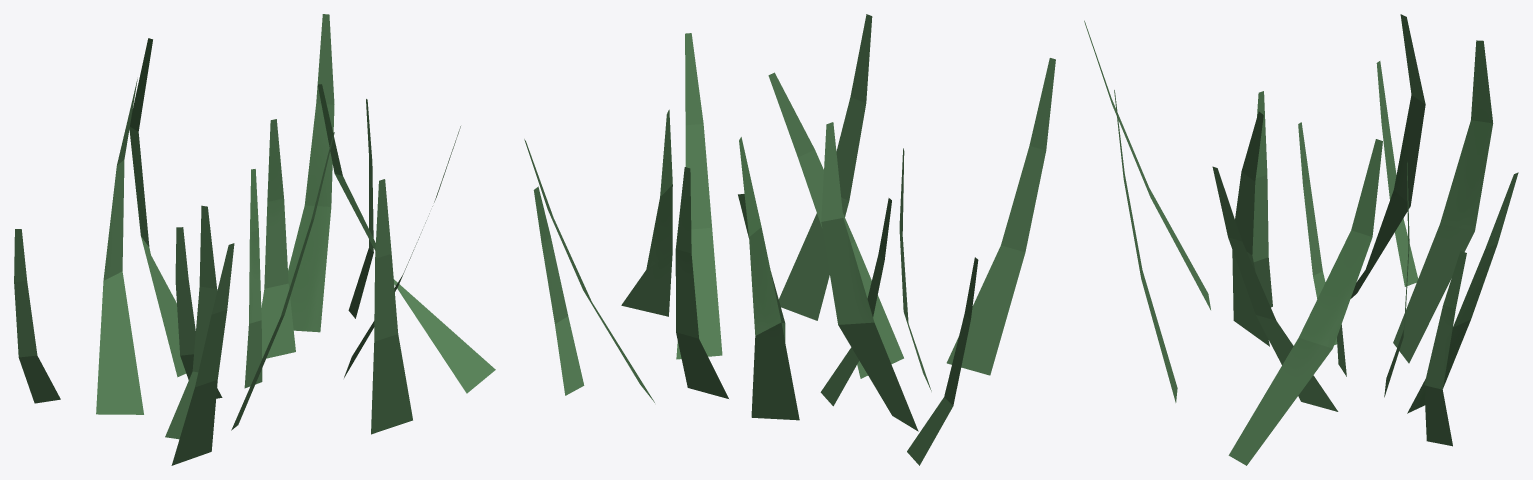
The model's file is grass_clump.fbx.
3 renders of one model, left to right at view 1: azimuth 30°, elevation 25°; view 2: azimuth 150°, elevation 25°; view 3: azimuth 270°, elevation 25°, orthographic. The views are drawn at different scales.
Visible parts, largest first — view 1: grassClump; view 2: grassClump; view 3: grassClump.
Part boxes in pixels (left/top/right/bottom): grassClump: left=14, top=14, right=495, bottom=465; grassClump: left=524, top=14, right=1055, bottom=465; grassClump: left=1084, top=14, right=1518, bottom=465.
Size of the model in its own units: 4.64 by 3.34 by 4.11.
Materials: 1 (1 with a texture image).
